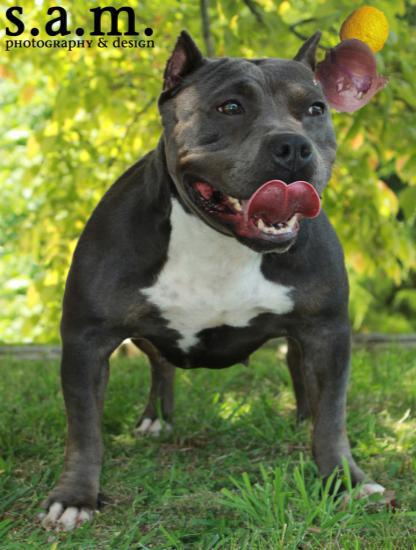Cantaloupe: (339, 6, 393, 60)
Onion: (315, 38, 392, 115)
